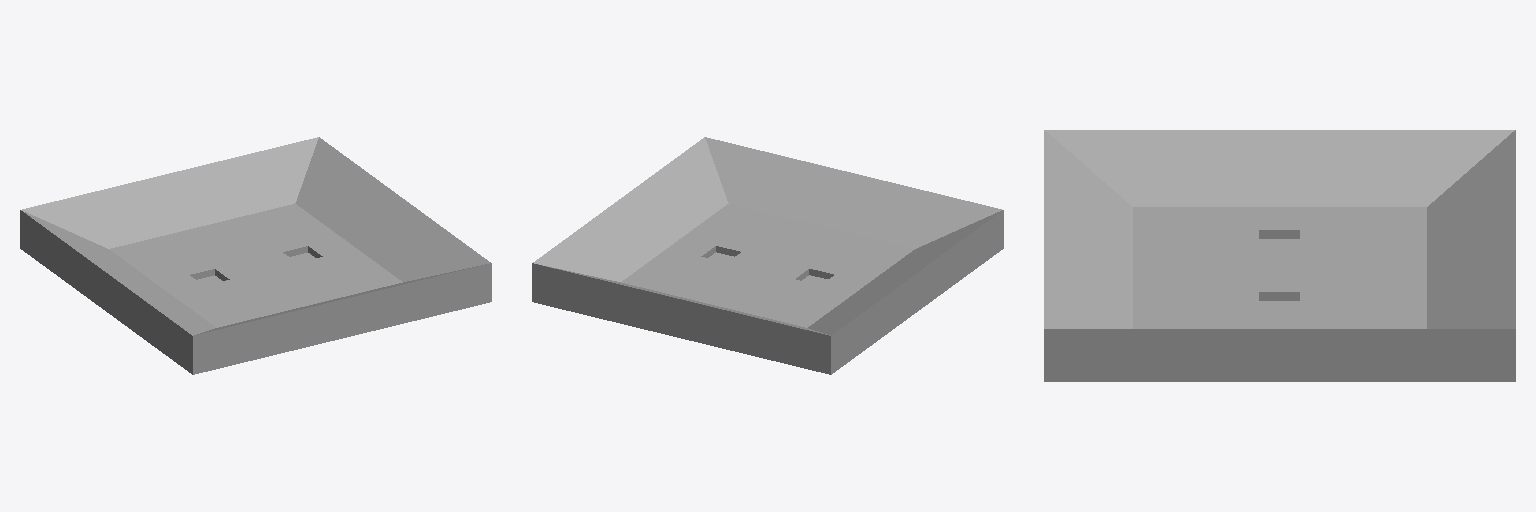
robot.urdf — tray_with_inserts.urdf:
<?xml version="0.0" ?>
<robot name="tray_with_inserts.urdf">

<link name="tray_with_inserts">
	<contact>
      <lateral_friction value="0.6"/>
    </contact>
    <inertial>
      <origin rpy="0 0 0" xyz="0 0 0"/>
       <mass value="500"/>
       <inertia ixx="1" ixy="0" ixz="0" iyy="1" iyz="0" izz="1"/>
    </inertial>
    <visual>
      <origin rpy="0 0 0" xyz="0 0 0"/>
      <geometry>
		<mesh filename="tray_with_inserts.obj" scale=".001 .001 .001"/>  <!-- 1mm in freecad is treated as 1m here -->
      </geometry>
       <material name="grey">
        <color rgba="0.7 0.7 0.7 1"/>
      </material>
    </visual>
    <collision concave="yes">
      <geometry>
      	<mesh filename="tray_with_inserts.obj" scale=".001 .001 .001"/>
      </geometry>
      <origin rpy="0 0 0" xyz="0 0 0"/>
    </collision>
</link>

</robot>

--- Facts derived from the render (not from the file) ---
Views: 3 orthographic renders of the robot side by side, from view 1: azimuth 30°, elevation 25°; view 2: azimuth 150°, elevation 25°; view 3: azimuth 270°, elevation 25°.
Robot: tray_with_inserts.urdf — 1 links, 0 joints (none); root link tray_with_inserts; default pose: all joints at 0.
Links seen in each view (by area): view 1: tray_with_inserts; view 2: tray_with_inserts; view 3: tray_with_inserts.
Link boxes in pixels (box(x1,y1,x2,y2)): tray_with_inserts: box(20, 137, 491, 374); tray_with_inserts: box(532, 137, 1003, 374); tray_with_inserts: box(1044, 130, 1515, 381).
Size in the robot's own frame: 0.48 by 0.48 by 0.06 metres.
Meshes: 1 distinct files referenced, 1 mesh visuals loaded (1 OBJ).